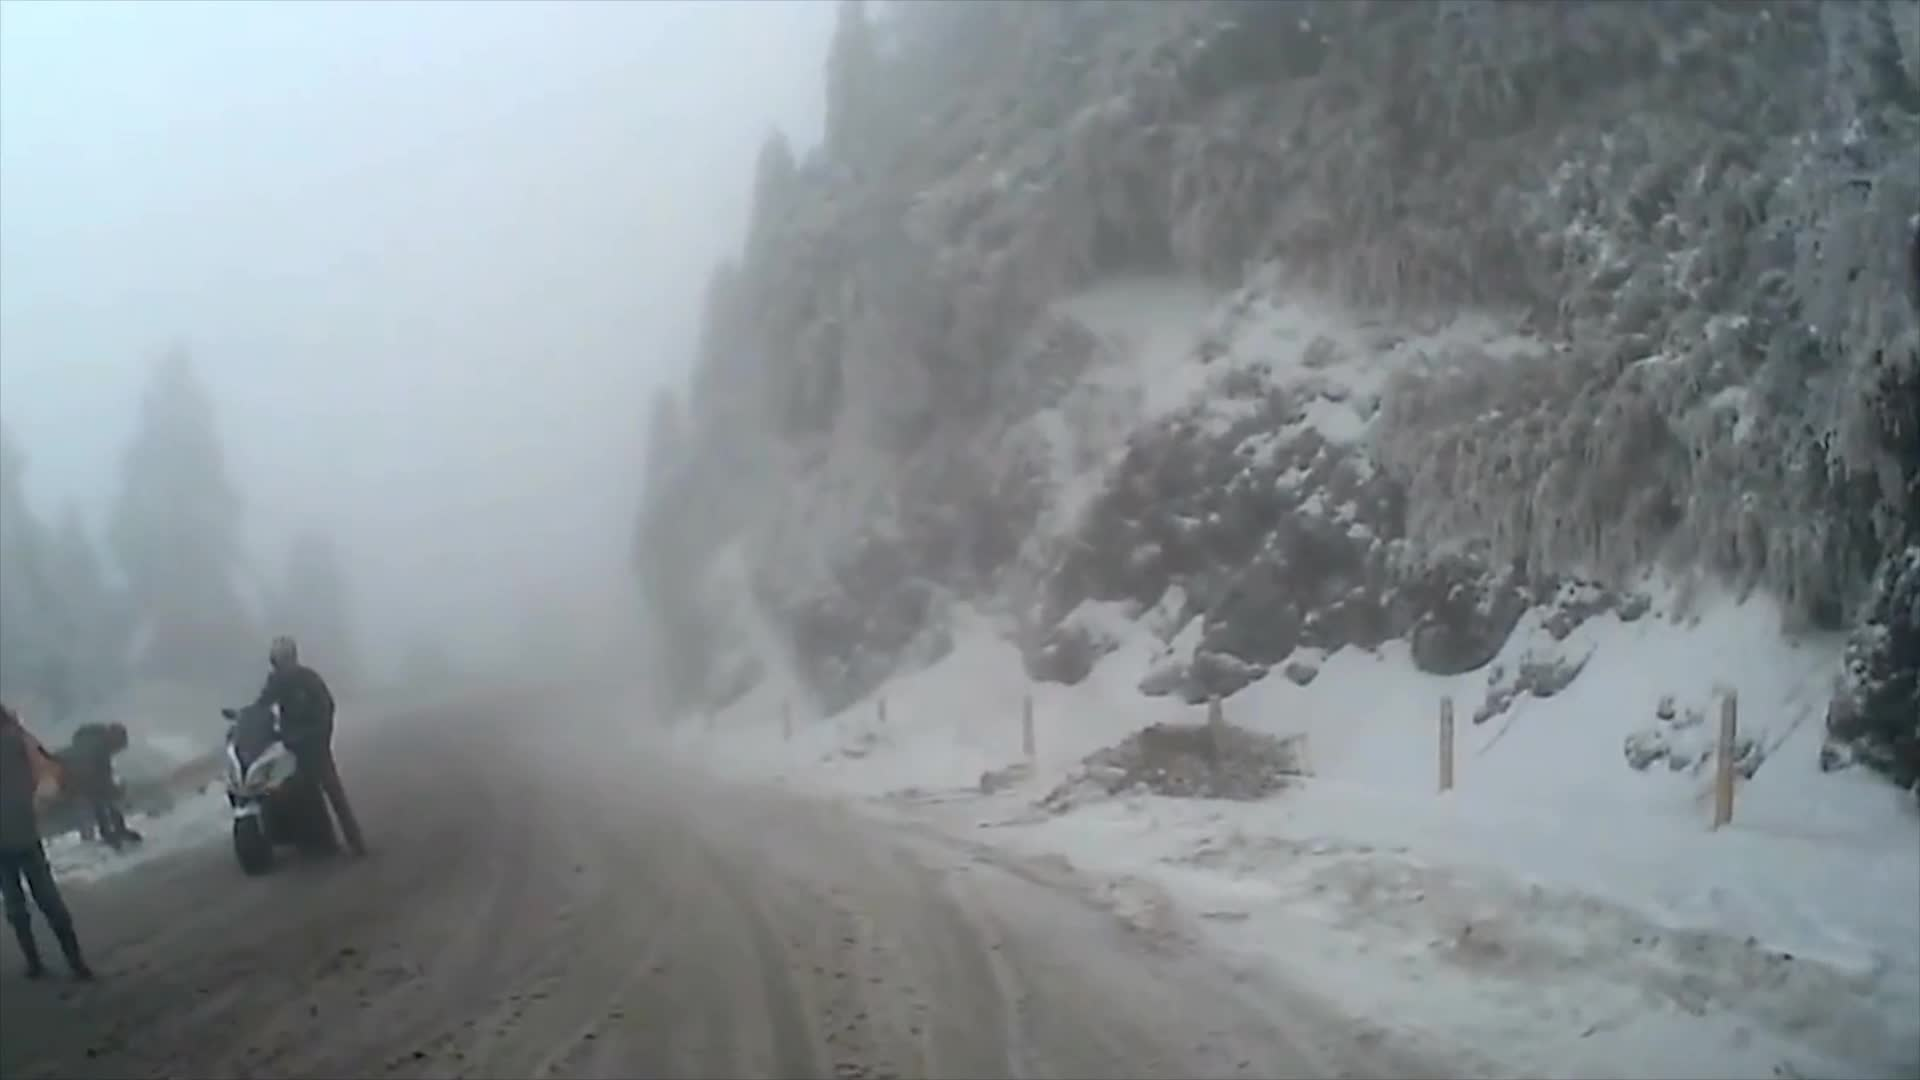pedestrian: (241, 633, 382, 871), (2, 684, 96, 980), (61, 723, 147, 852)
